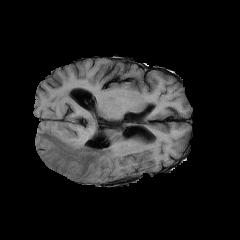glioma: (36, 122, 128, 175)
